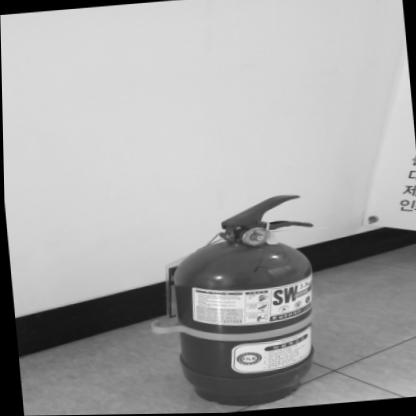FE: (161, 193, 321, 412)
